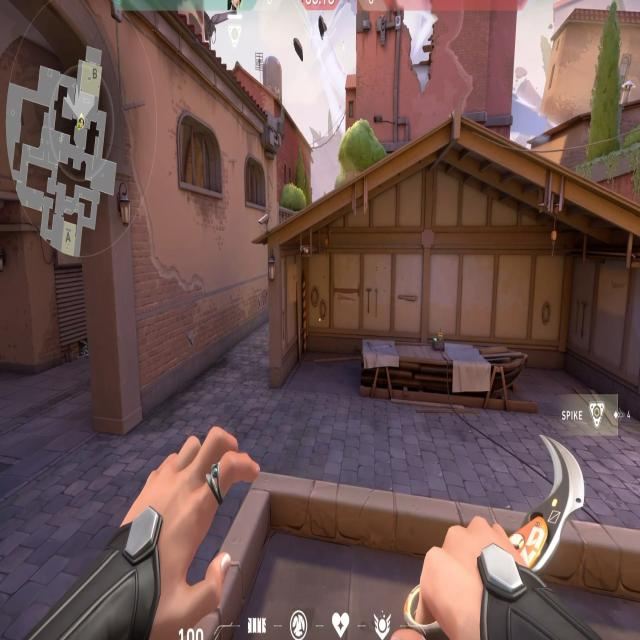B_Garage_Left: (265, 228, 393, 402)
Throwables: (176, 107, 227, 208), (242, 150, 267, 211)
